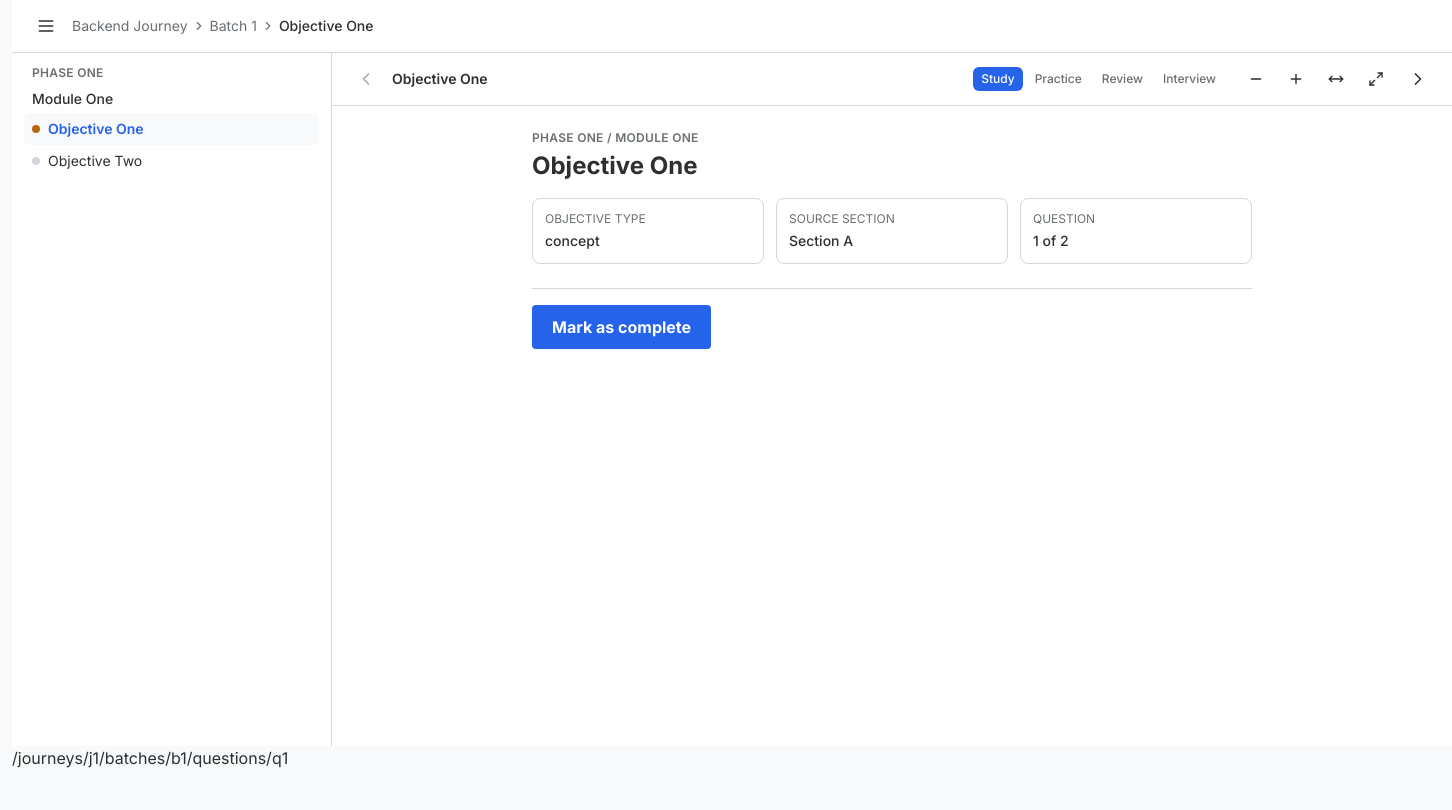
it: StudyReaderPage › switches modes through the URL query param
Expected: the 2nd heading "Objective One" is shown, top-left (532, 151), bottom-right (698, 180)
Click the button "Practice". click: (1058, 79)
box: top-left (1027, 67), bottom-right (1090, 91)
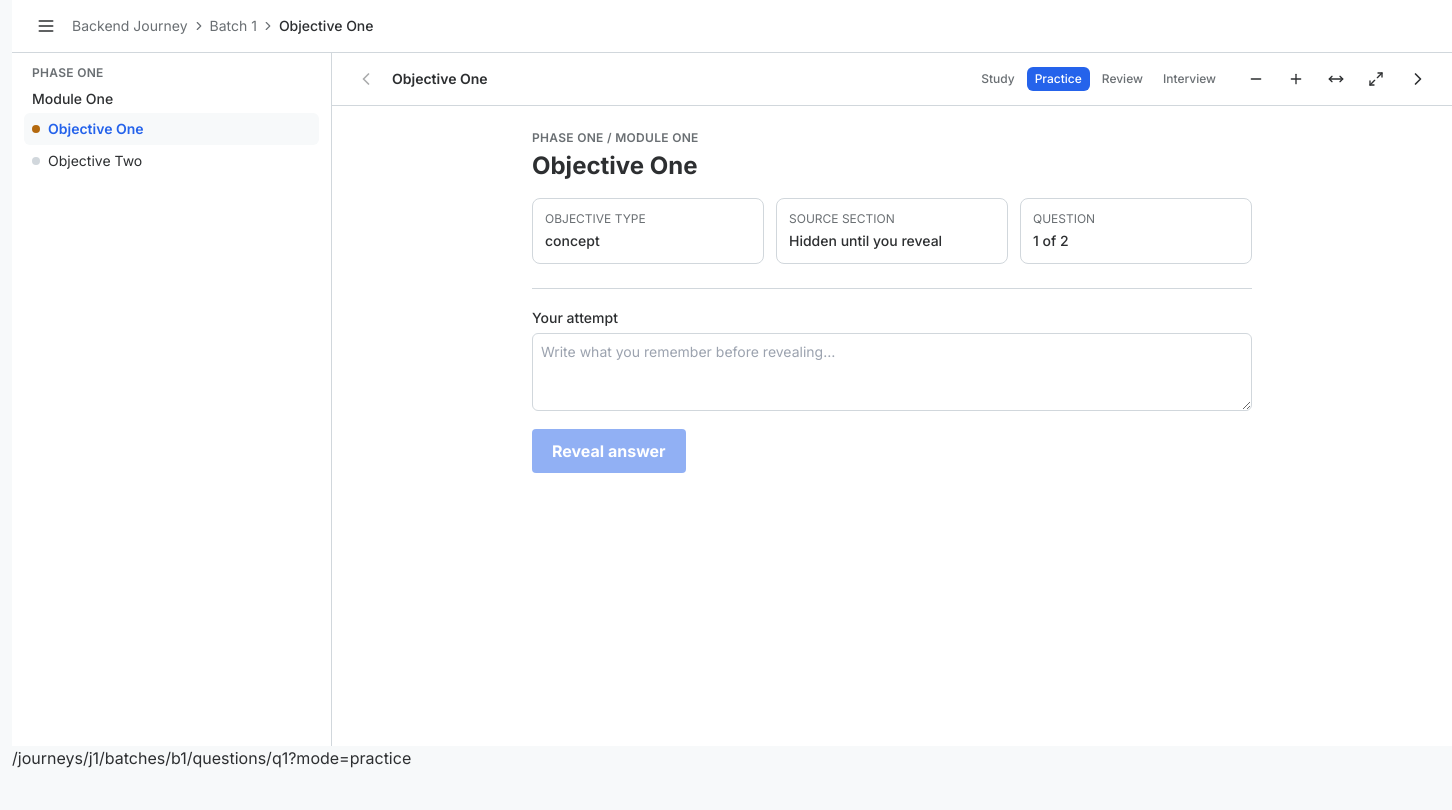
Expected: the text with test id "location" shows "mode=practice", top-left (288, 748), bottom-right (411, 768)
